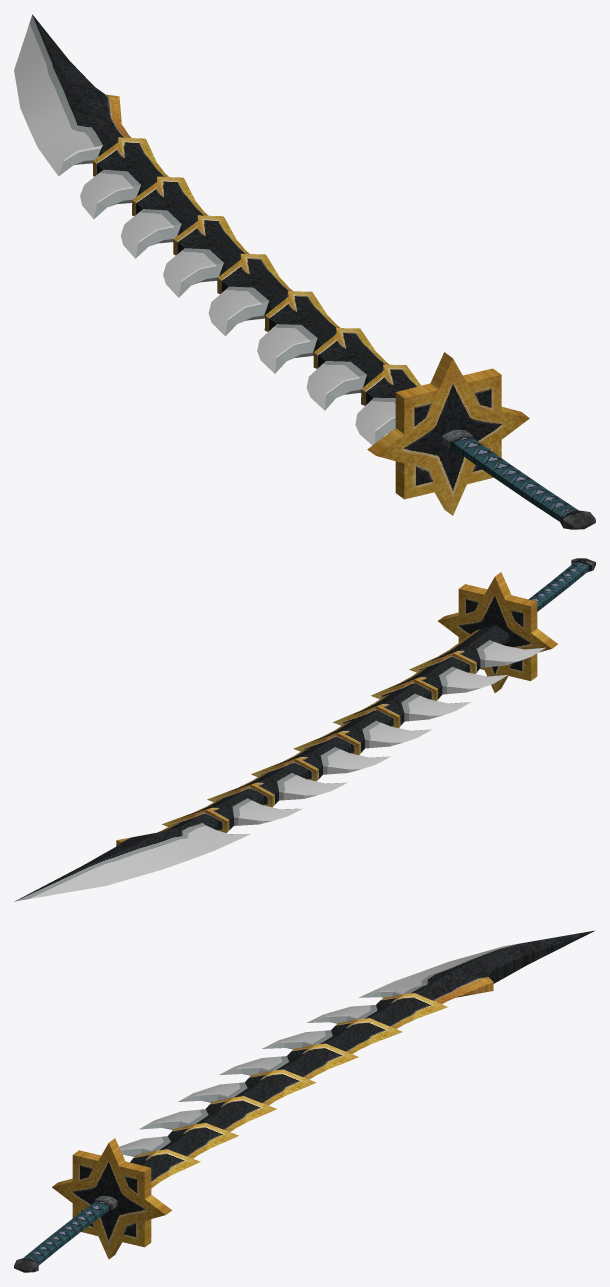
The model's file is weapon__test_kanemitsu.glb.
3 views of the same model, one above another, from view 1: azimuth 30°, elevation 25°; view 2: azimuth 150°, elevation 25°; view 3: azimuth 330°, elevation 25° (orthographic). The views are drawn at different scales.
Bounding box in the file's own units: 0.3188 × 0.2457 × 1.88.
Materials: 1 (1 with a texture image).
